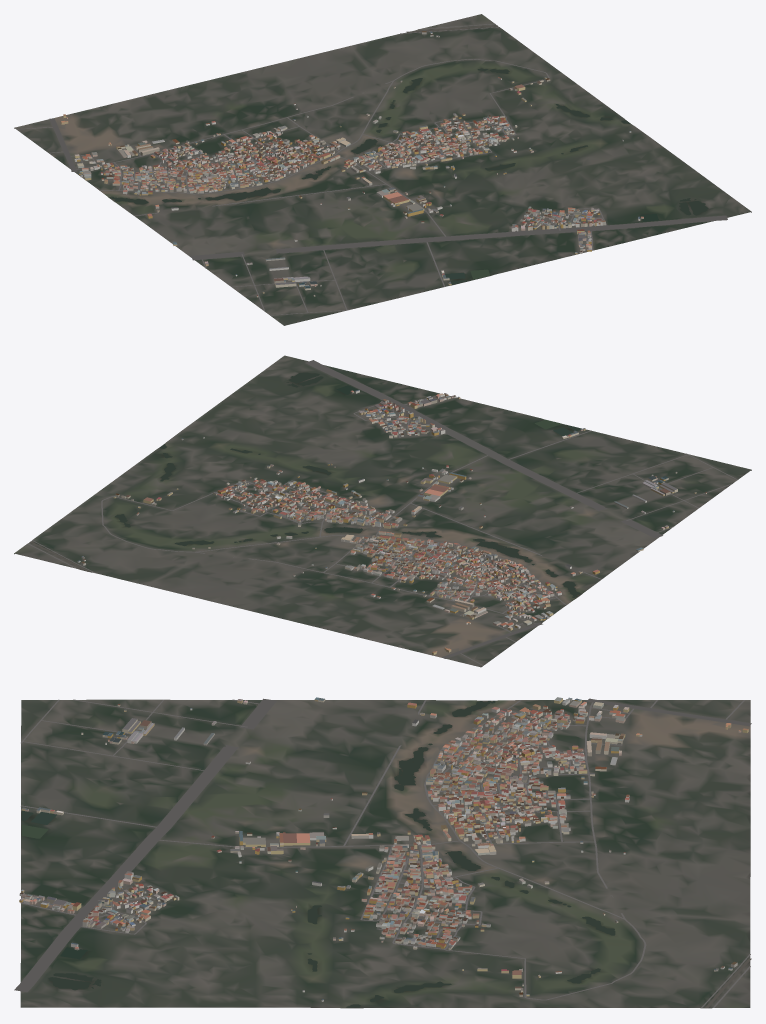
3 views of the same model, one above another, from view 1: azimuth 30°, elevation 25°; view 2: azimuth 150°, elevation 25°; view 3: azimuth 270°, elevation 25° (orthographic). The views are drawn at different scales.
Visible parts, largest first — view 1: ground, buildings, roads, water; view 2: ground, buildings, roads, water; view 3: ground, buildings, roads, water.
Boxes of the visible parts, box(x1,y1,x2,y2) form: ground: box(14, 14, 751, 325); buildings: box(60, 31, 643, 297); roads: box(16, 23, 727, 315); water: box(109, 25, 708, 284); ground: box(14, 355, 751, 667); buildings: box(77, 390, 706, 654); roads: box(27, 360, 737, 665); water: box(30, 372, 581, 598); ground: box(20, 699, 750, 1008); buildings: box(19, 697, 748, 1001); roads: box(14, 698, 751, 1007); water: box(21, 700, 751, 1008).
Size of the model in its own units: 1407 by 15.6 by 1418.
